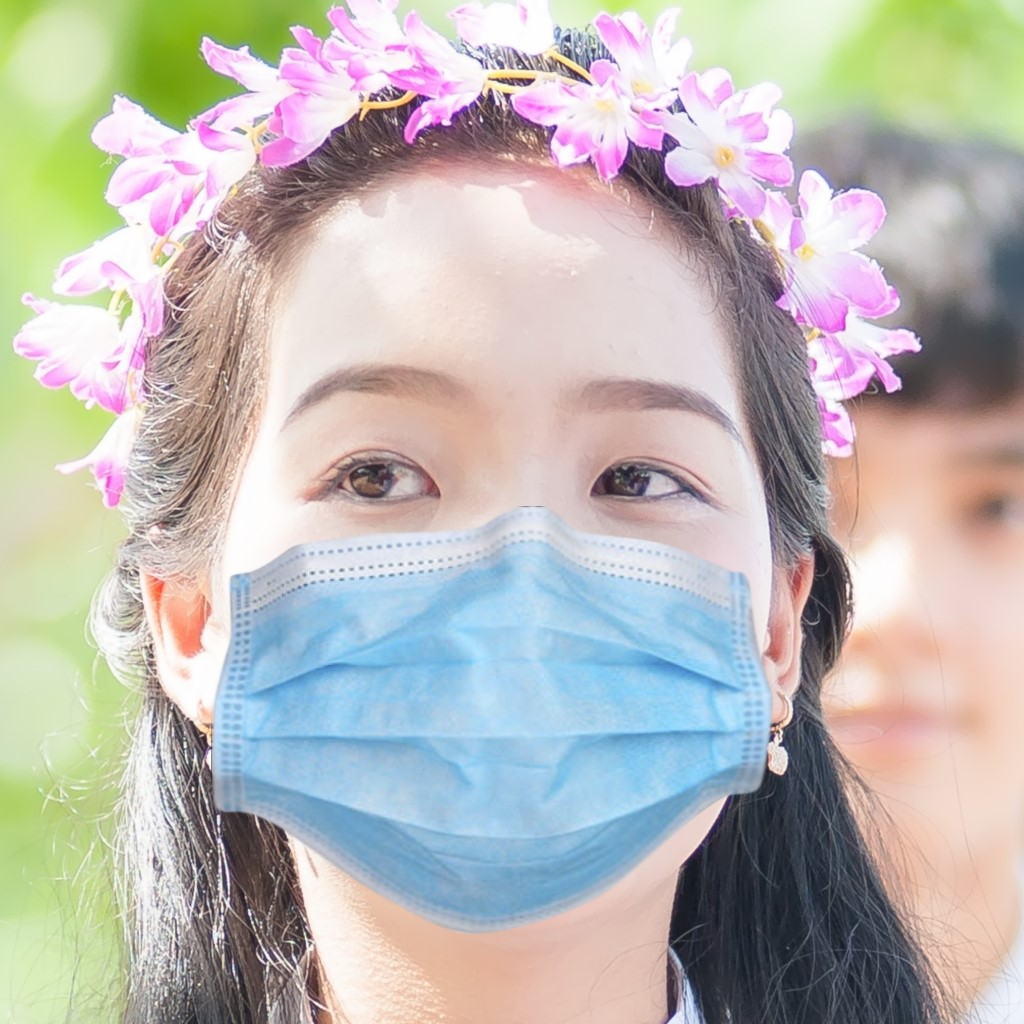con_mascara: (156, 110, 814, 900)
